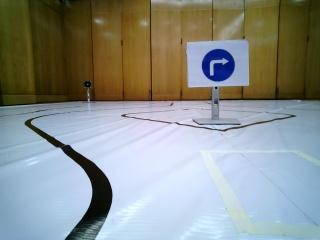right: (190, 44, 249, 85)
